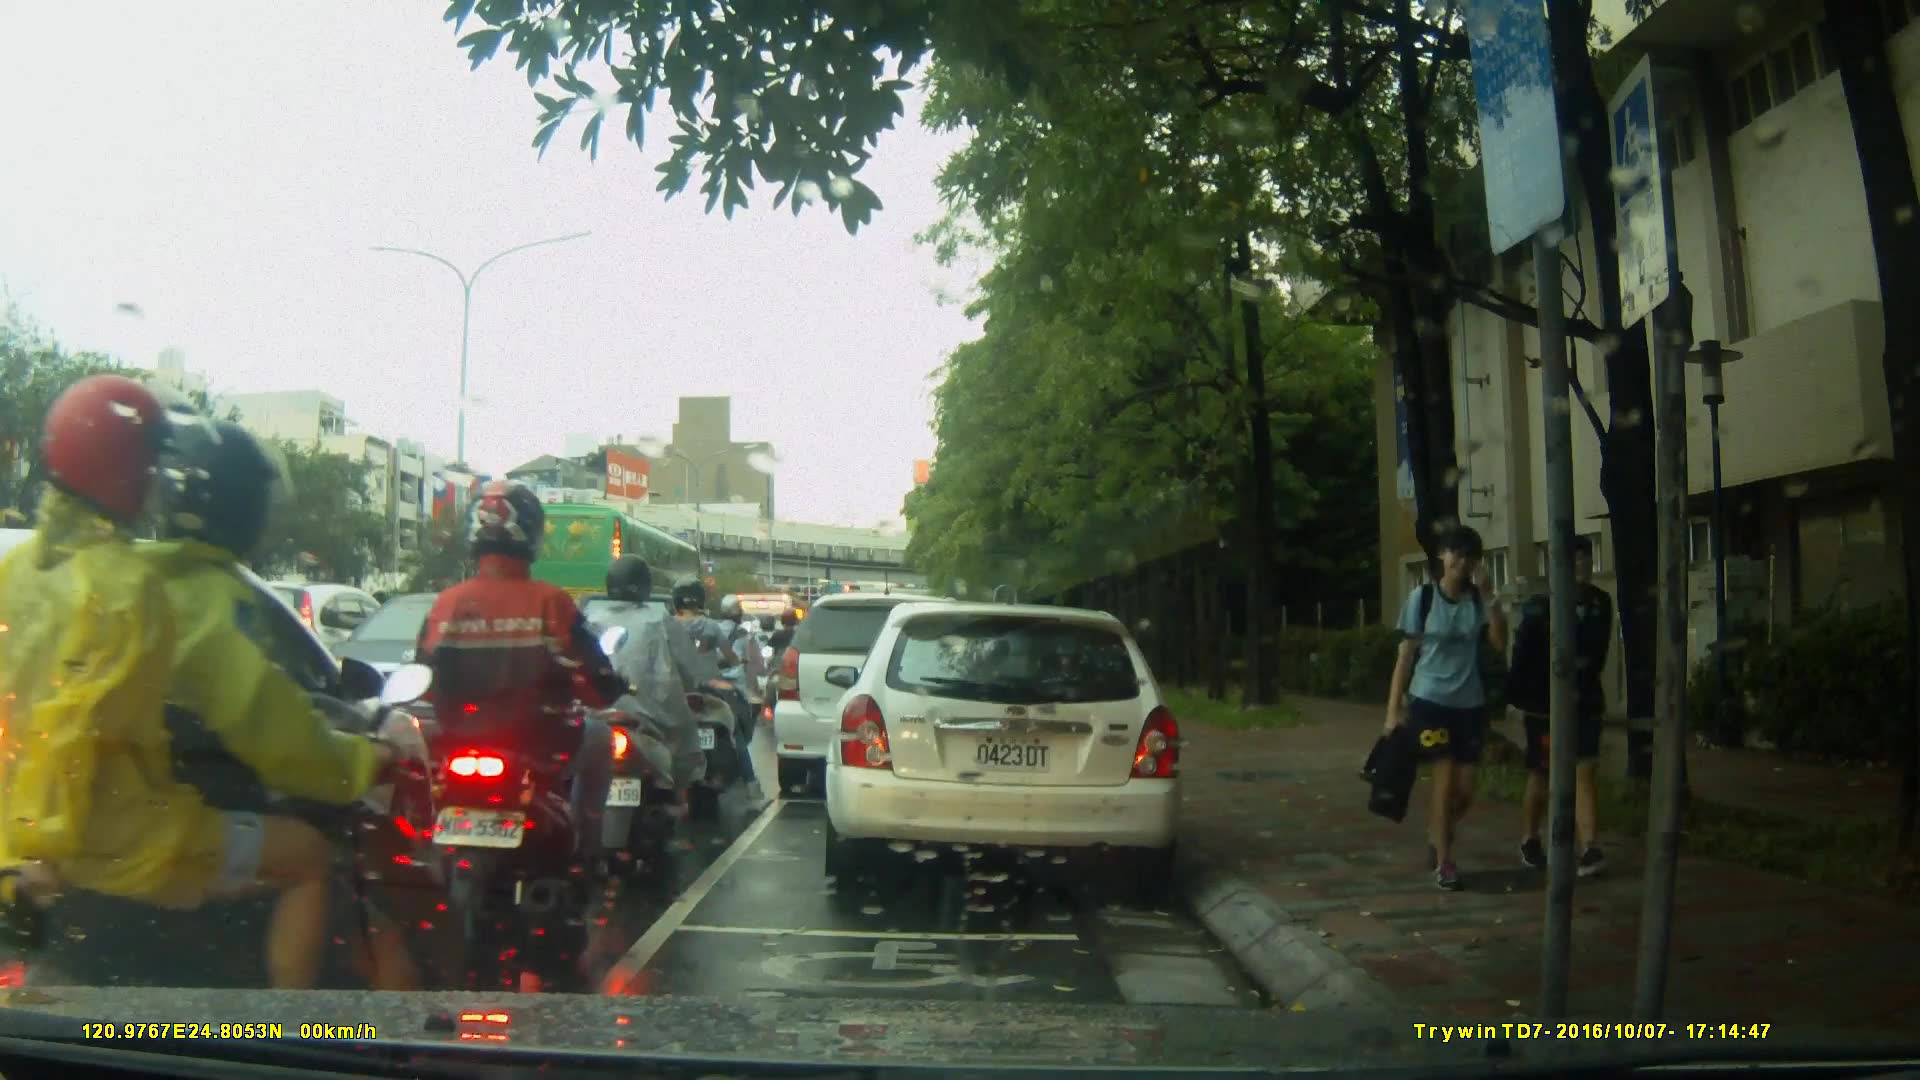pedestrian: (1355, 525, 1522, 891), (1509, 530, 1639, 889)
rider: (1, 366, 435, 1080), (410, 474, 640, 977), (571, 554, 735, 879), (654, 572, 741, 810), (704, 592, 777, 753), (767, 601, 812, 719)
vehicle: (1, 530, 456, 988), (831, 592, 1196, 897), (322, 590, 629, 776), (770, 590, 999, 803), (495, 502, 707, 636)
